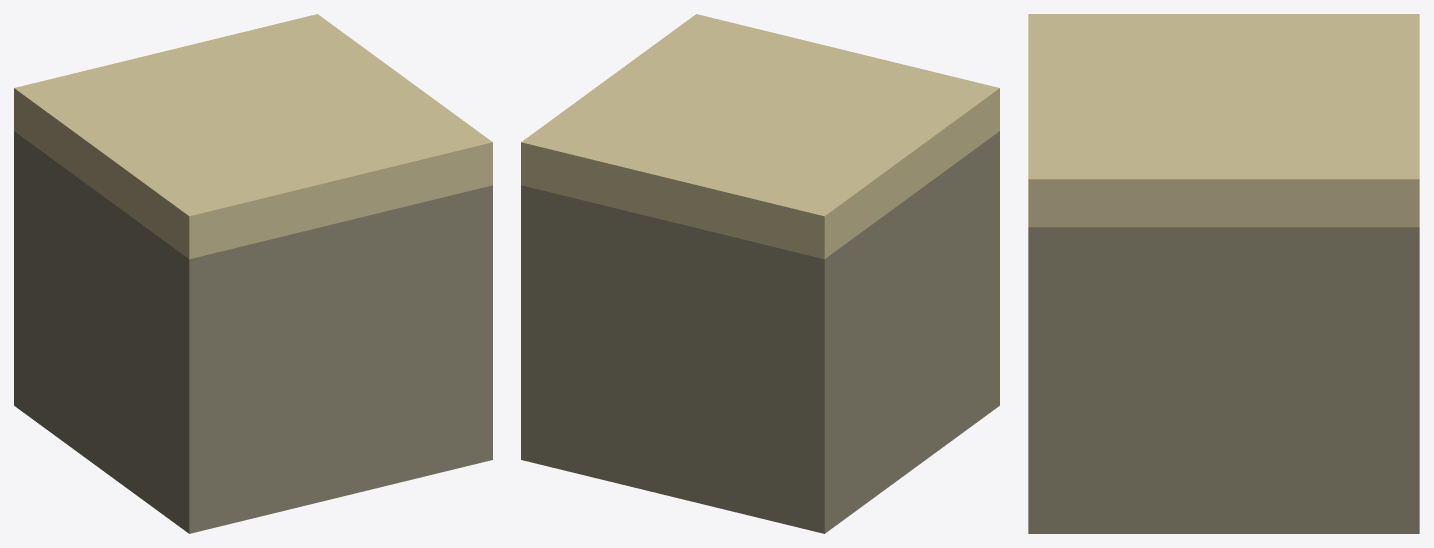
File: sand.fbx
3 views of the same model, side by side, from view 1: azimuth 30°, elevation 25°; view 2: azimuth 150°, elevation 25°; view 3: azimuth 270°, elevation 25° (orthographic). The views are drawn at different scales.
Visible parts, largest first — view 1: sand; view 2: sand; view 3: sand.
Part boxes in pixels (x1=…): sand: x1=14, y1=14, x2=492, y2=533; sand: x1=521, y1=14, x2=999, y2=533; sand: x1=1028, y1=14, x2=1419, y2=533.
Bounding box in the file's own units: 100 × 100 × 100.
